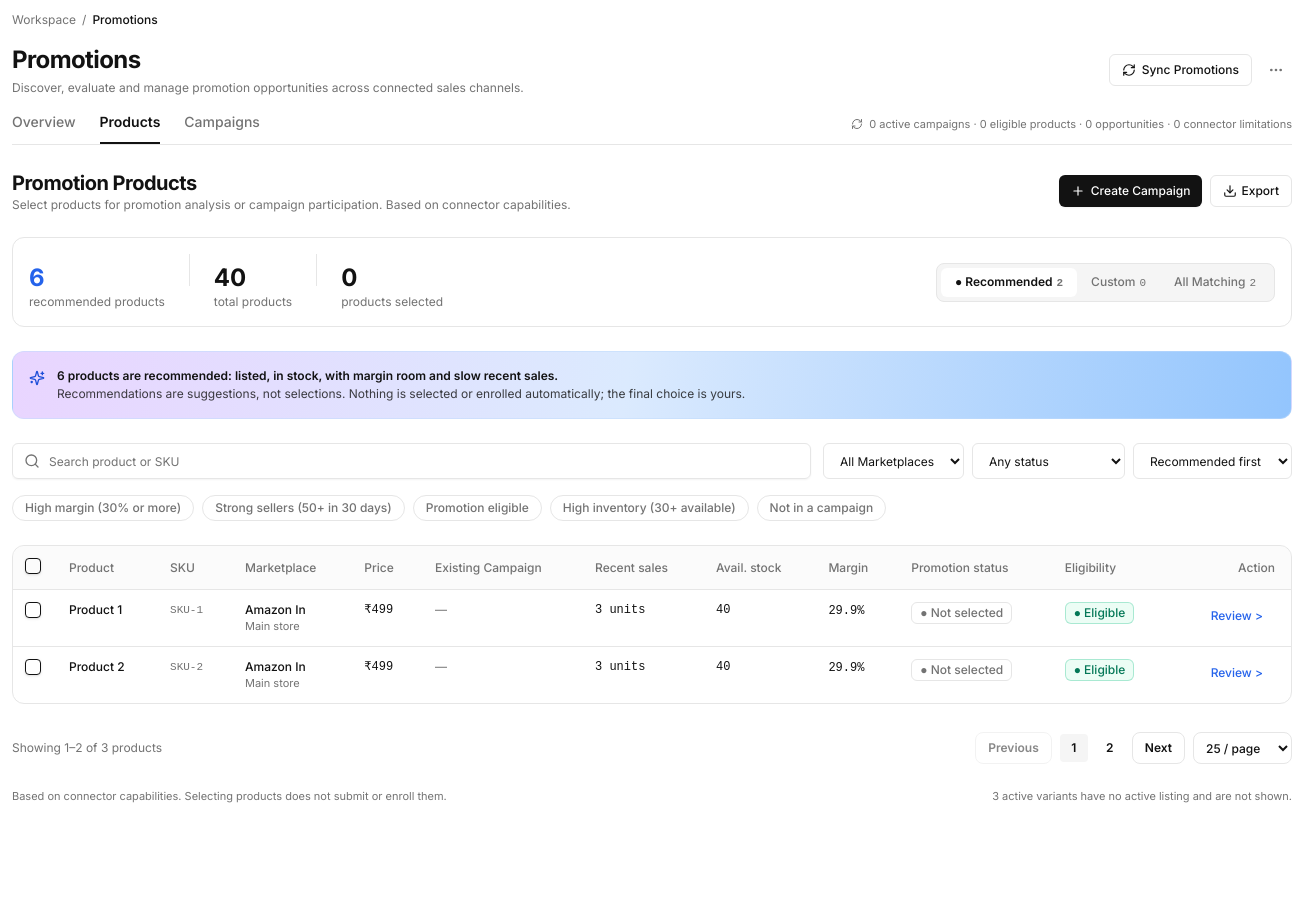
Test case: Products tab › keeps the selection across pages, with select-all on the page and the Custom segment showing it
Expected: the text "Product 1" is shown, [69, 602, 122, 617]
Click the checkbox named "Select all on this page" at (33, 566), box [25, 558, 41, 574]
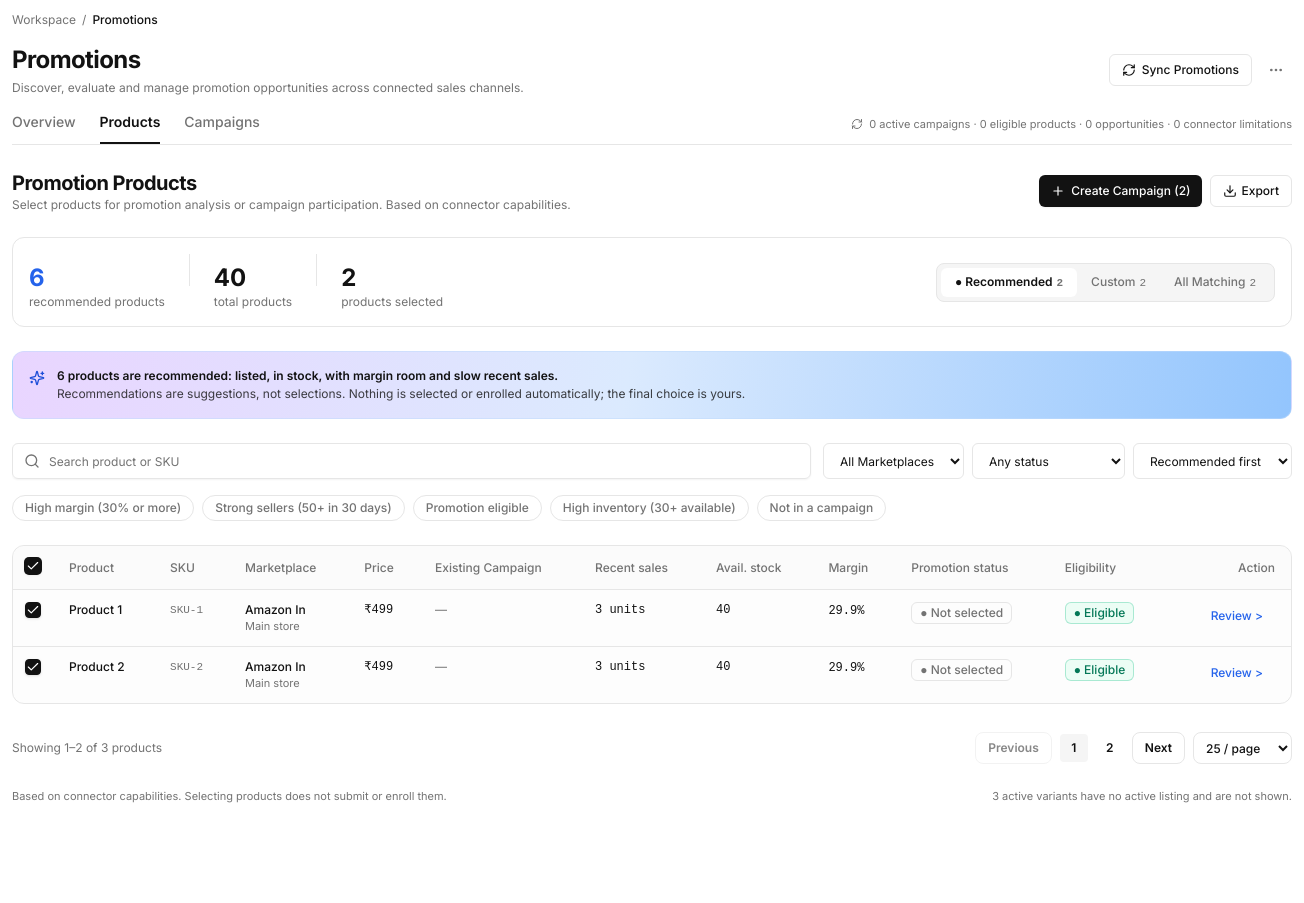
Expected: the 1st text "2" is shown, [341, 263, 356, 292]
Click the button "Next" at (1158, 748), box [1132, 732, 1185, 764]
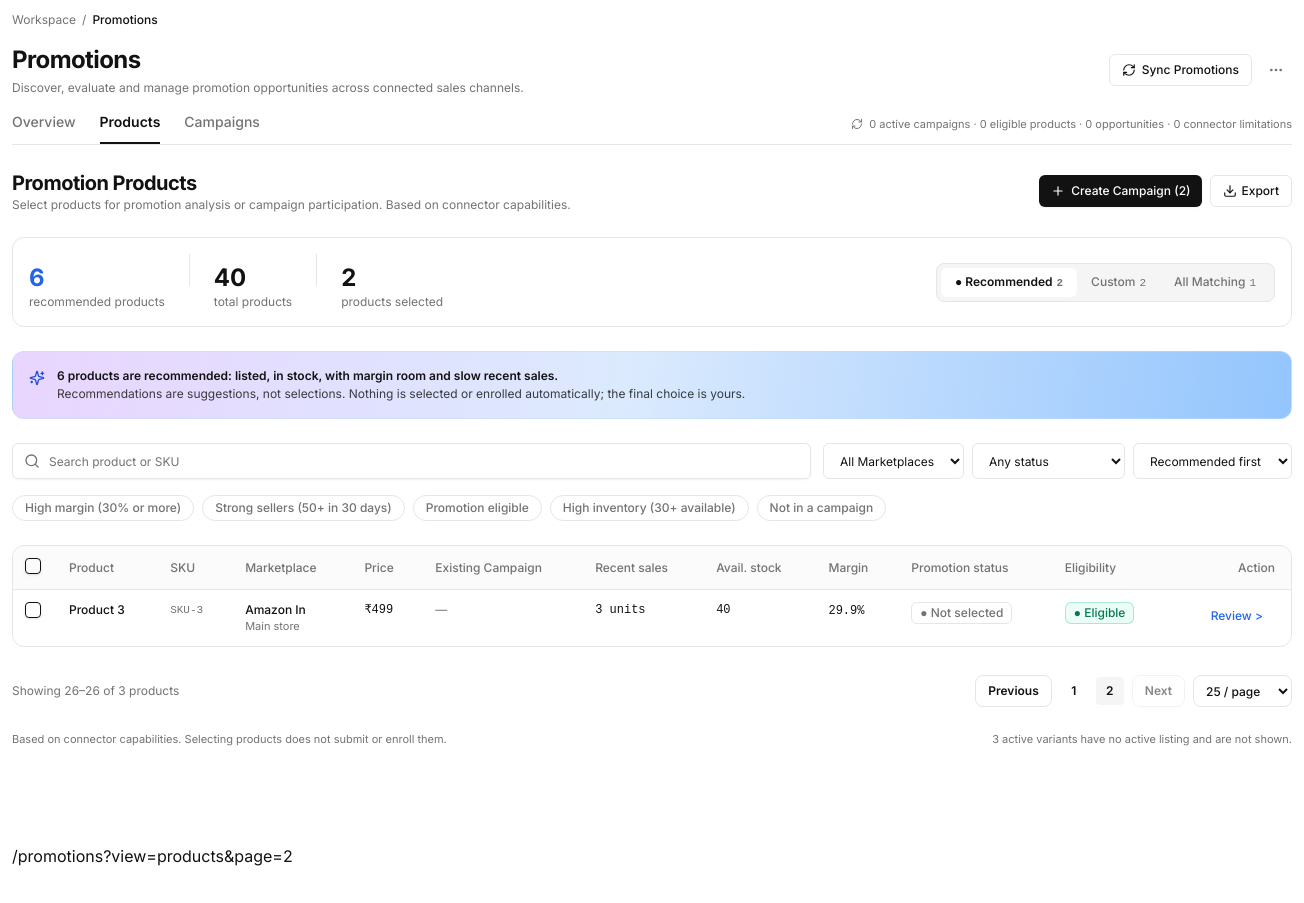
Expected: the checkbox named "Select all on this page" is not checked, [25, 558, 41, 574]
Expected: the text "Product 3" is shown, [69, 602, 125, 617]
Click the checkbox named "Select Product 3 on Main store" at (33, 610), box [25, 602, 41, 618]
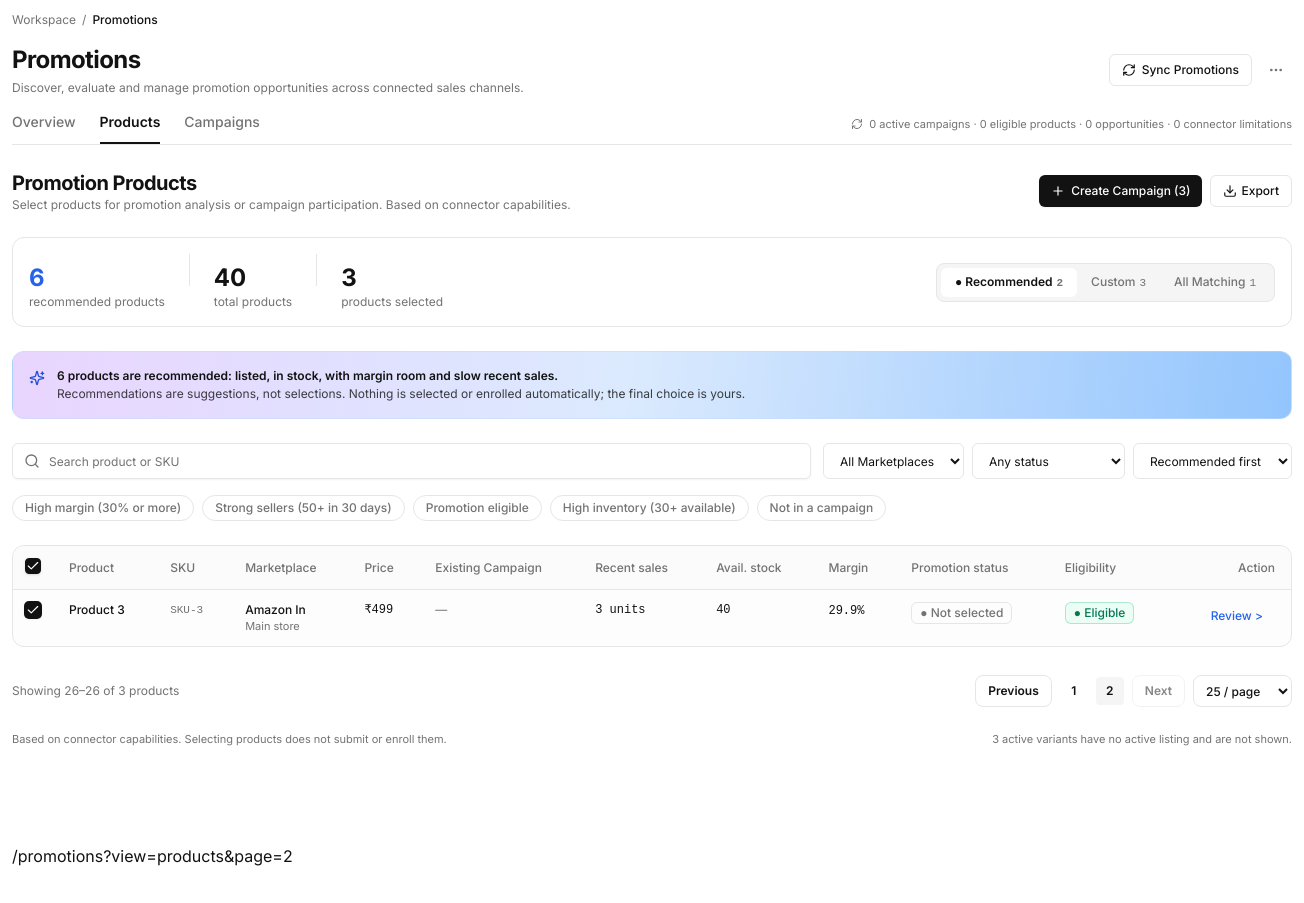
Expected: the 1st text "3" is shown, [341, 263, 357, 292]
Click the button "Custom3" at (1119, 282), box [1077, 268, 1160, 296]
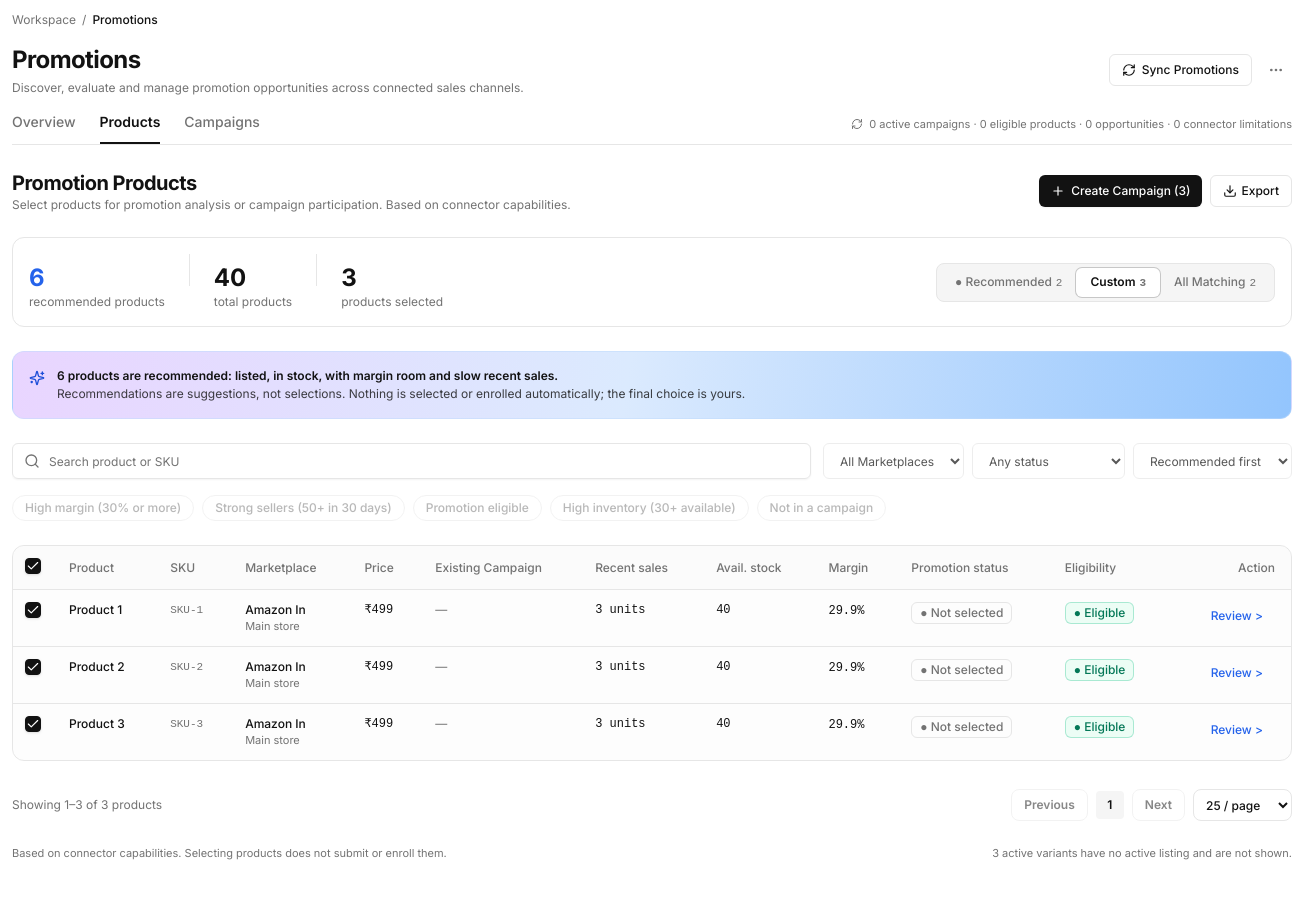
Expected: the text "Product 3" is shown, [69, 716, 125, 731]
Expected: the text "Product 1" is shown, [69, 602, 122, 617]
Expected: the text "Product 2" is shown, [69, 659, 125, 674]
Click the checkbox named "Select Product 2 on Main store" at (33, 667), box [25, 659, 41, 675]
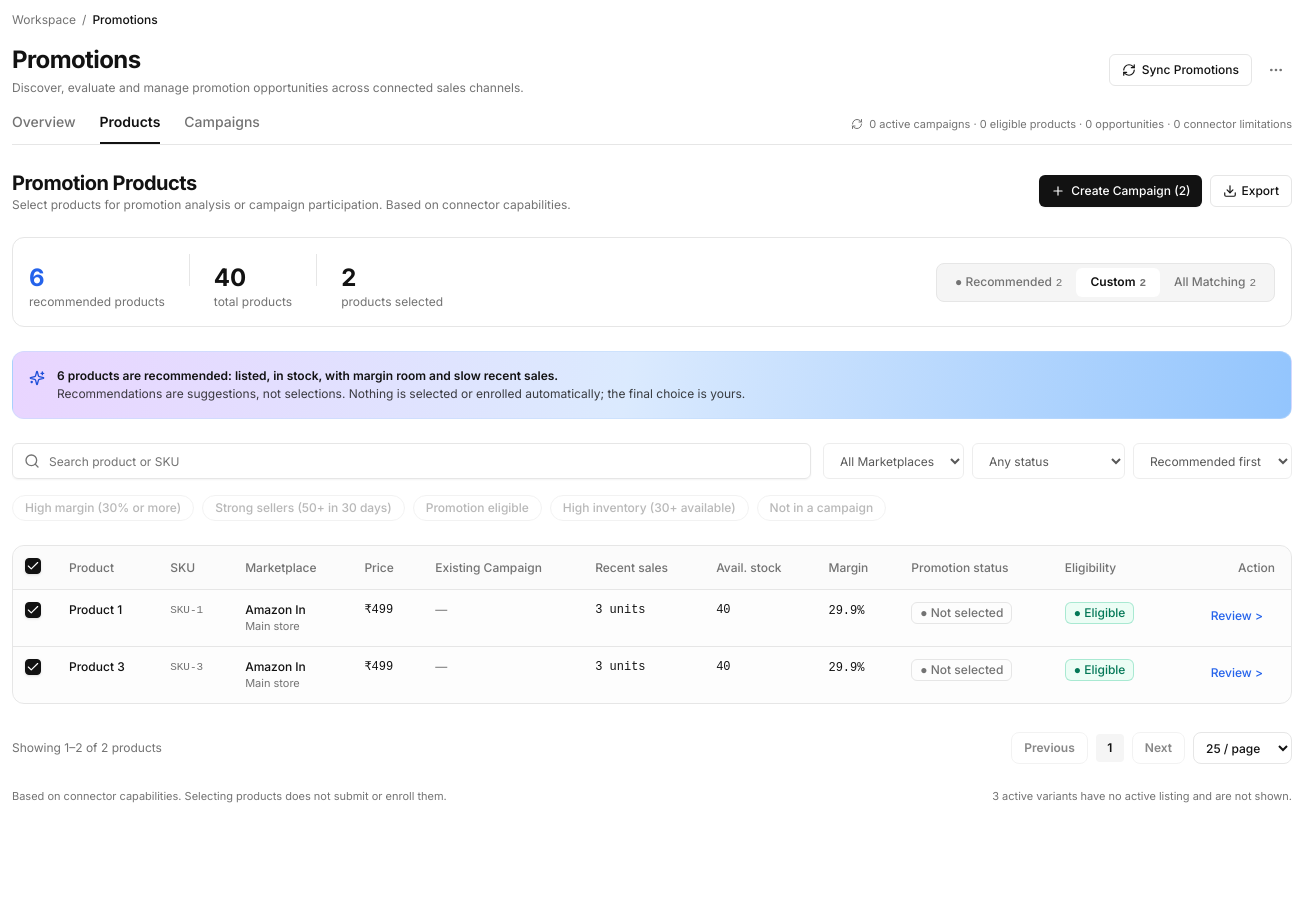
Expected: the 1st text "2" is shown, [341, 263, 356, 292]
Expected: the text "Product 2" is gone
